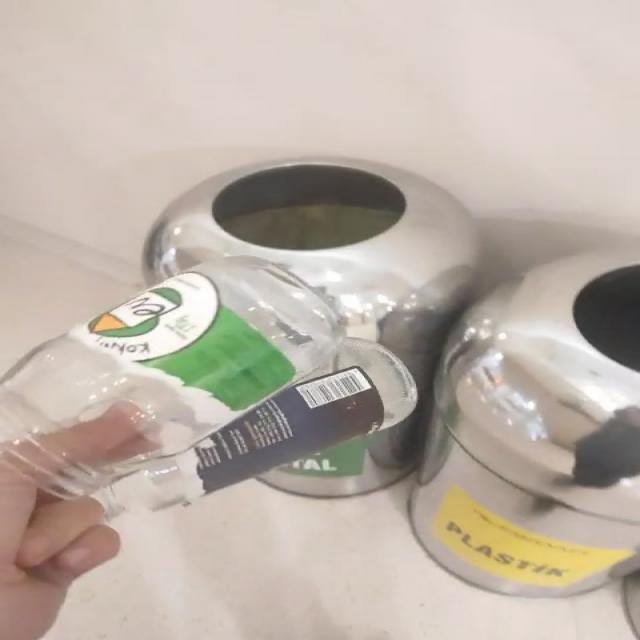Glass: (3, 257, 416, 511)
